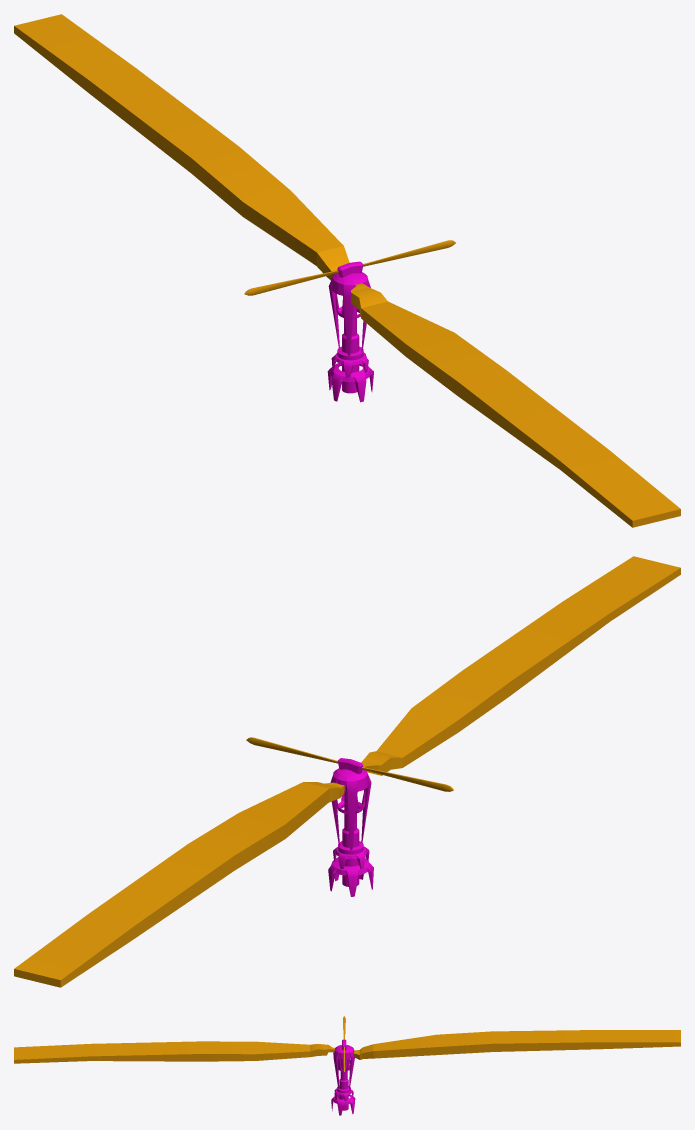
The model's file is cg_PlayerHelicopter_Propera.fbx.
The picture shows the model from 3 angles, top to bottom: view 1: azimuth 30°, elevation 25°; view 2: azimuth 150°, elevation 25°; view 3: azimuth 270°, elevation 25°; orthographic projection. The views are drawn at different scales.
Visible parts, largest first — view 1: pCube2, pCylinder8, pCube3, pCylinder3; view 2: pCube2, pCylinder8, pCube3, pCylinder3; view 3: pCube2, pCylinder8, pCylinder3.
Part boxes in pixels (bbox=[...]): pCube2: bbox=[14, 14, 680, 527]; pCylinder8: bbox=[328, 272, 370, 355]; pCube3: bbox=[244, 240, 455, 295]; pCylinder3: bbox=[327, 363, 373, 402]; pCube2: bbox=[14, 556, 680, 987]; pCylinder8: bbox=[330, 768, 371, 850]; pCube3: bbox=[246, 737, 453, 791]; pCylinder3: bbox=[328, 857, 373, 896]; pCube2: bbox=[14, 1030, 680, 1063]; pCylinder8: bbox=[333, 1045, 354, 1089]; pCylinder3: bbox=[331, 1094, 355, 1115].
Bounding box in the file's own units: 349 × 224 × 1788.
